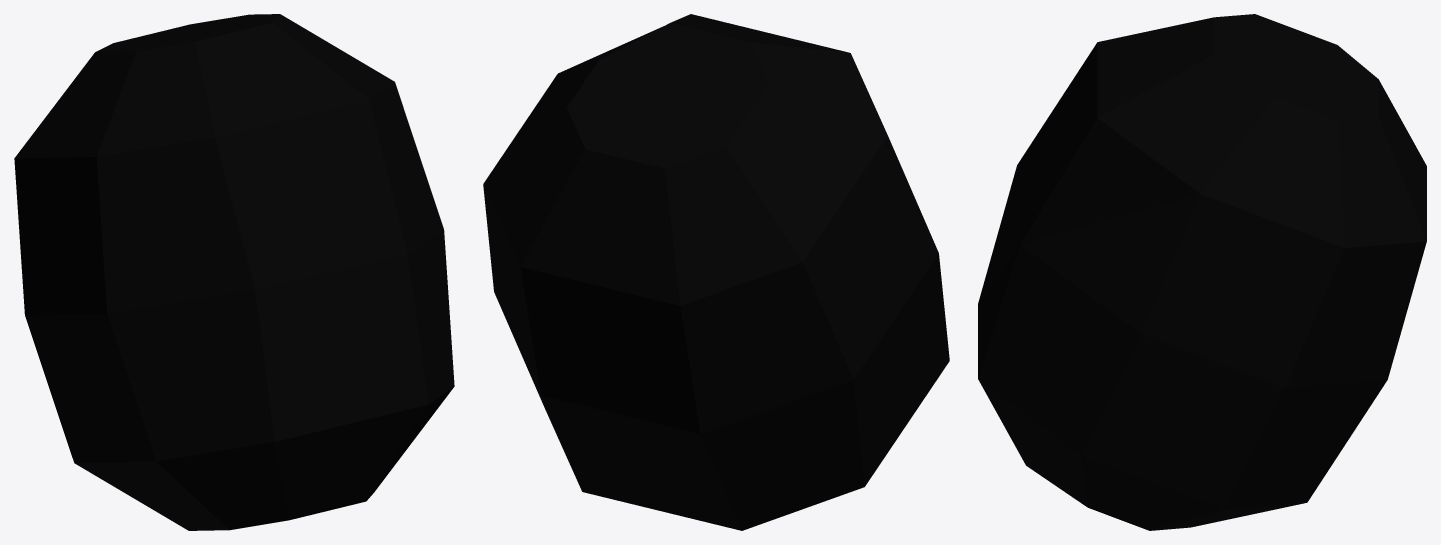
File: watermelon.glb
3 renders of one model, left to right at view 1: azimuth 30°, elevation 25°; view 2: azimuth 150°, elevation 25°; view 3: azimuth 270°, elevation 25°, orthographic. The views are drawn at different scales.
Bounding box in the file's own units: 2.46 × 3.2 × 2.75.
Materials: 1 (1 with a texture image).
